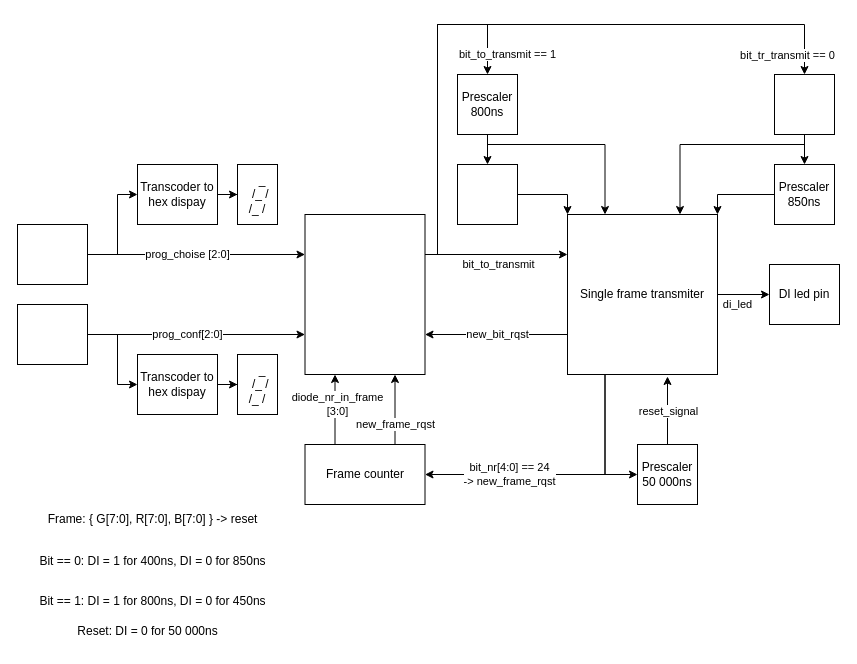
This 857x664 diagram has some shape labels left out. Each missing label, with the box of its shape:
Frame generator: (304, 214, 425, 374)
Prescaler 400ns: (774, 74, 834, 134)
Prescaler 450ns: (456, 164, 518, 224)
Program choice SW[2:0]: (16, 224, 88, 284)
Program configuration SW[2:0]: (16, 304, 88, 364)
